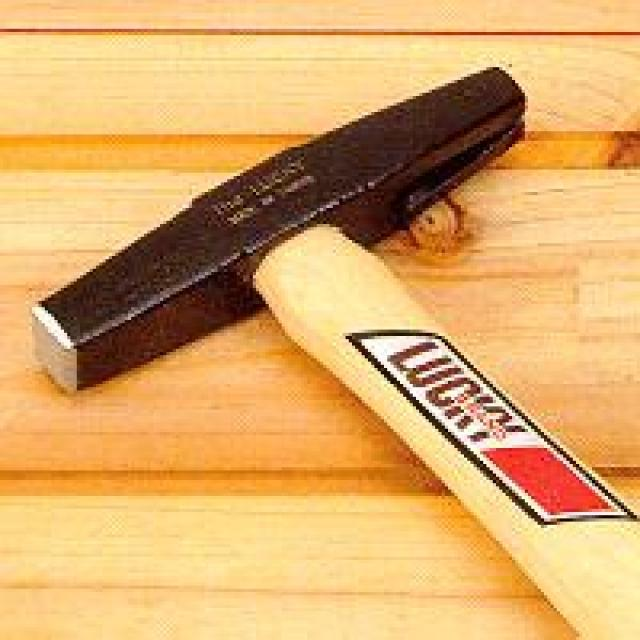hammer: (13, 54, 640, 640)
